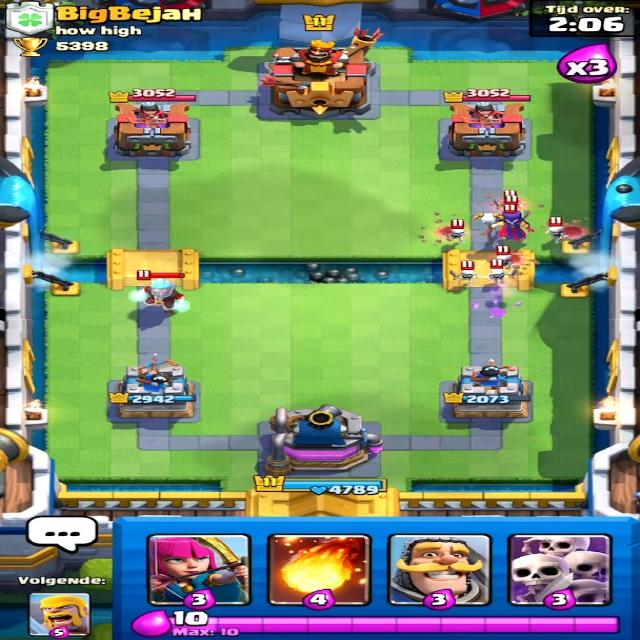Enemy_Ice_Wizard_Troop: (137, 280, 193, 312)
Enemy_Skeleton_Troop: (444, 222, 479, 245), (540, 221, 576, 243), (447, 264, 480, 285), (480, 265, 515, 282)
Enemy_Witch_Troop: (469, 208, 533, 254)
Fireball_Card: (268, 536, 378, 605)
